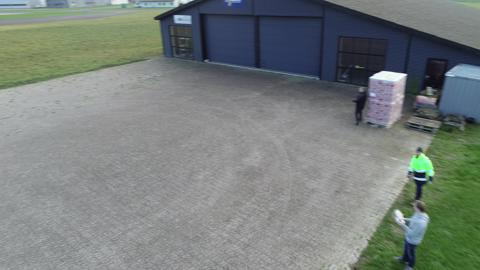RockwoolPallet: (365, 71, 408, 128)
